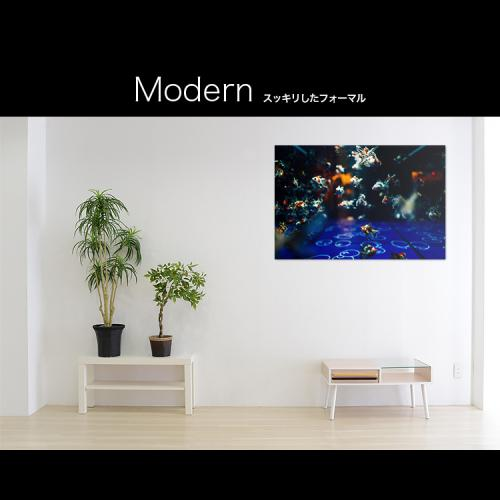bill: (274, 143, 448, 262)
